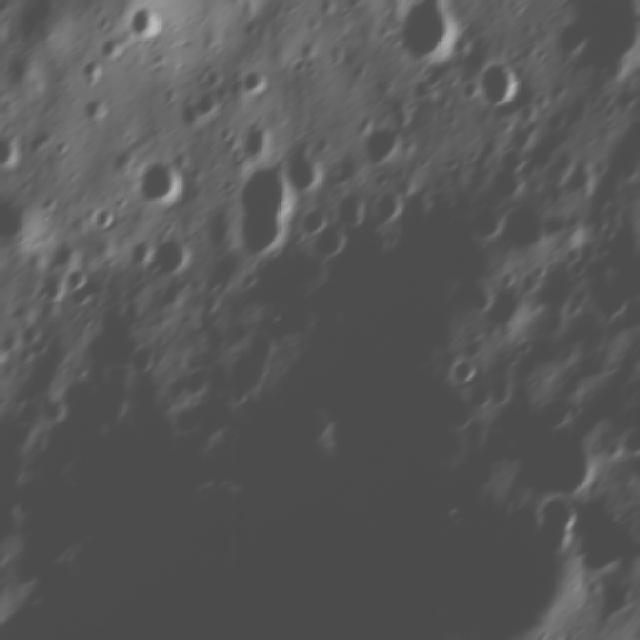crater: (222, 162, 300, 256), (382, 0, 462, 65), (348, 112, 414, 178), (465, 52, 532, 117), (533, 487, 587, 553), (125, 154, 193, 206), (494, 192, 552, 252), (280, 134, 332, 191), (147, 225, 195, 278), (121, 4, 172, 39), (71, 90, 115, 128), (232, 61, 276, 96), (493, 139, 530, 179), (100, 27, 135, 67), (445, 354, 484, 388), (76, 58, 105, 88), (62, 268, 100, 290)
